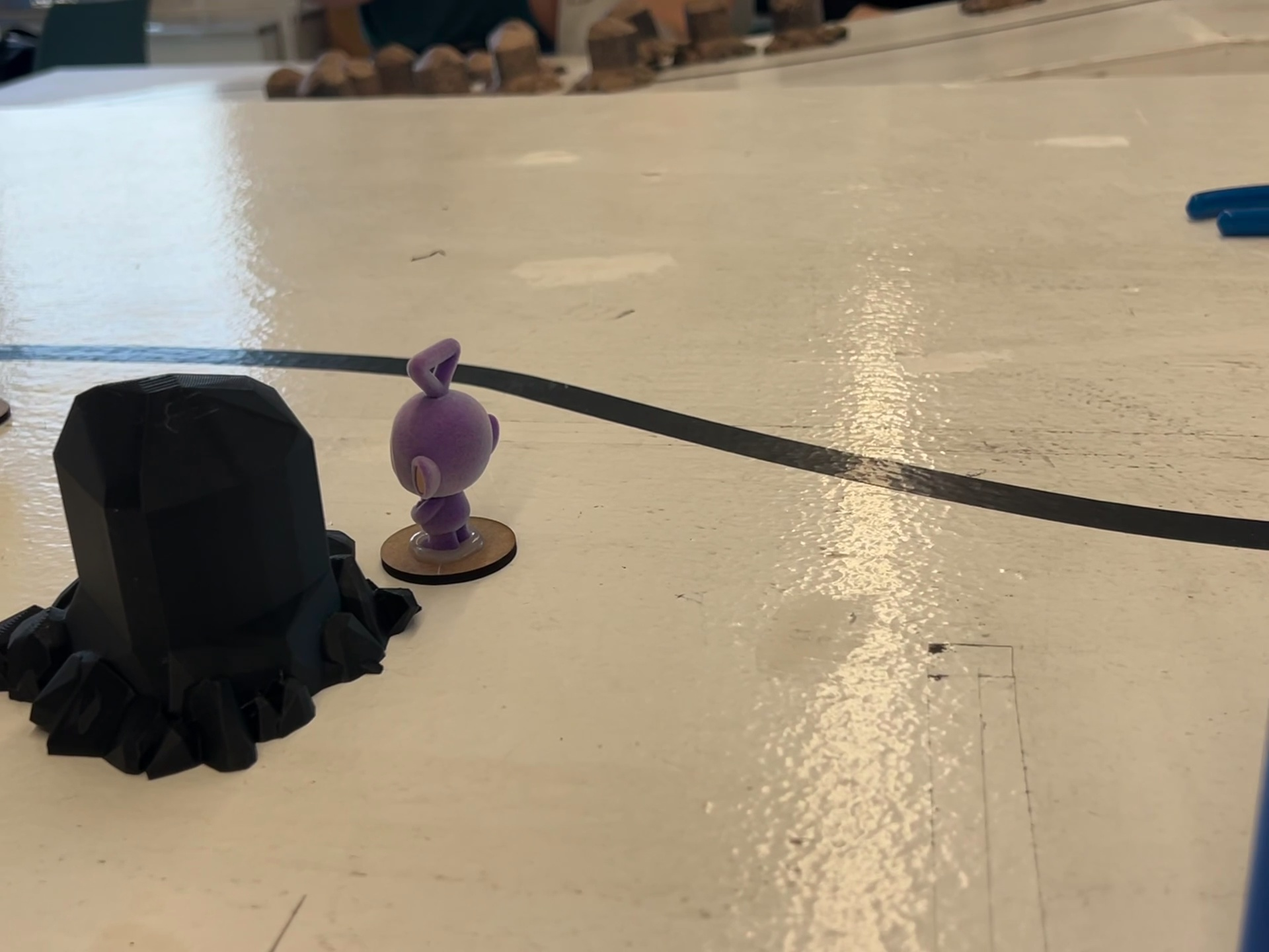teletubby: (390, 339, 499, 550)
